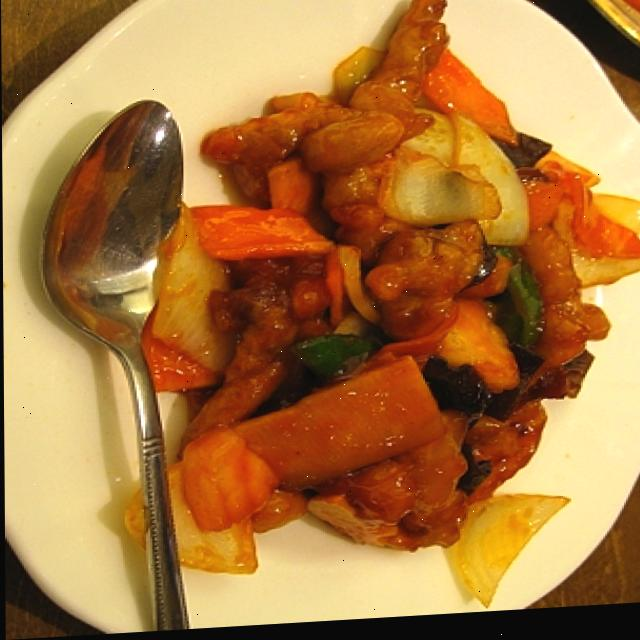猪肉菜式: (114, 0, 640, 635)
